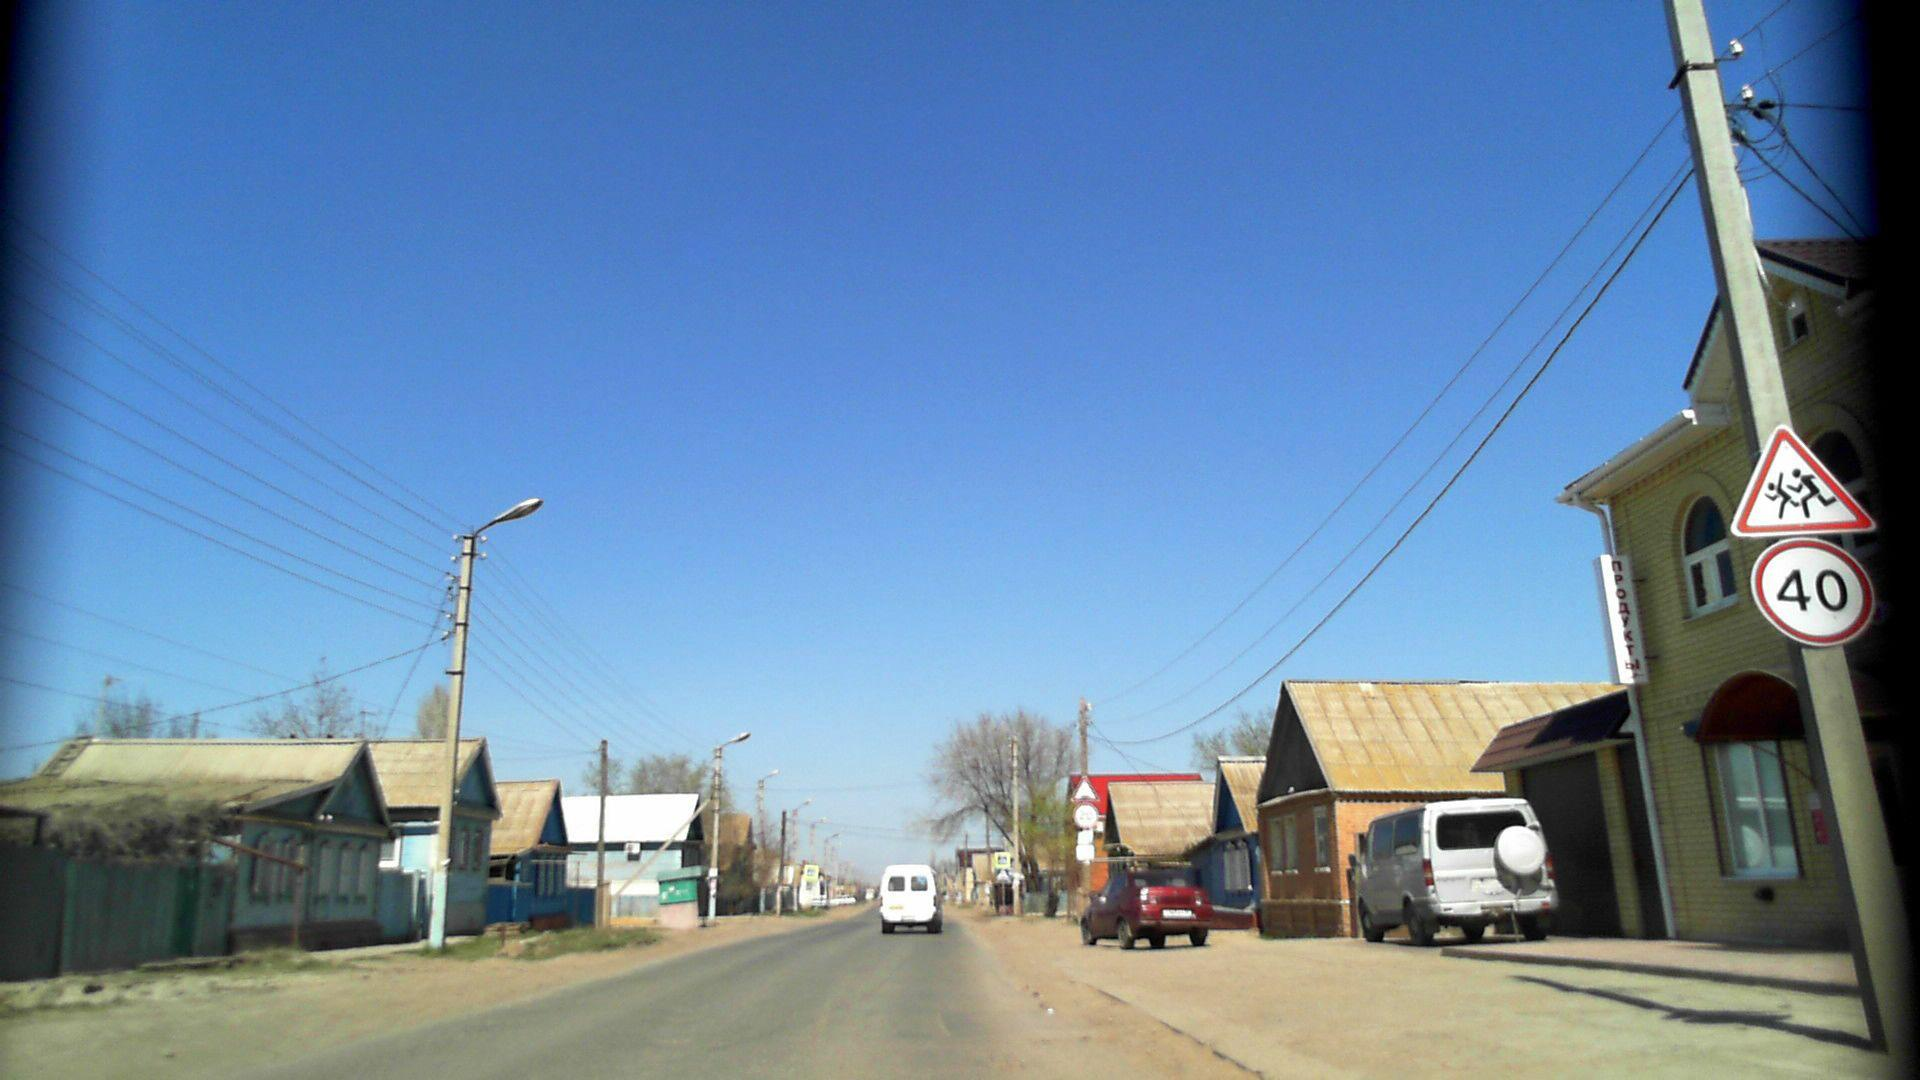1_17: (1072, 778, 1100, 802)
1_23: (1738, 433, 1880, 535)
3_24: (1753, 535, 1875, 645), (1073, 804, 1098, 828)
5_19_1: (996, 853, 1009, 866)
5_19_2: (806, 866, 815, 877)
5_20: (996, 870, 1009, 882)
